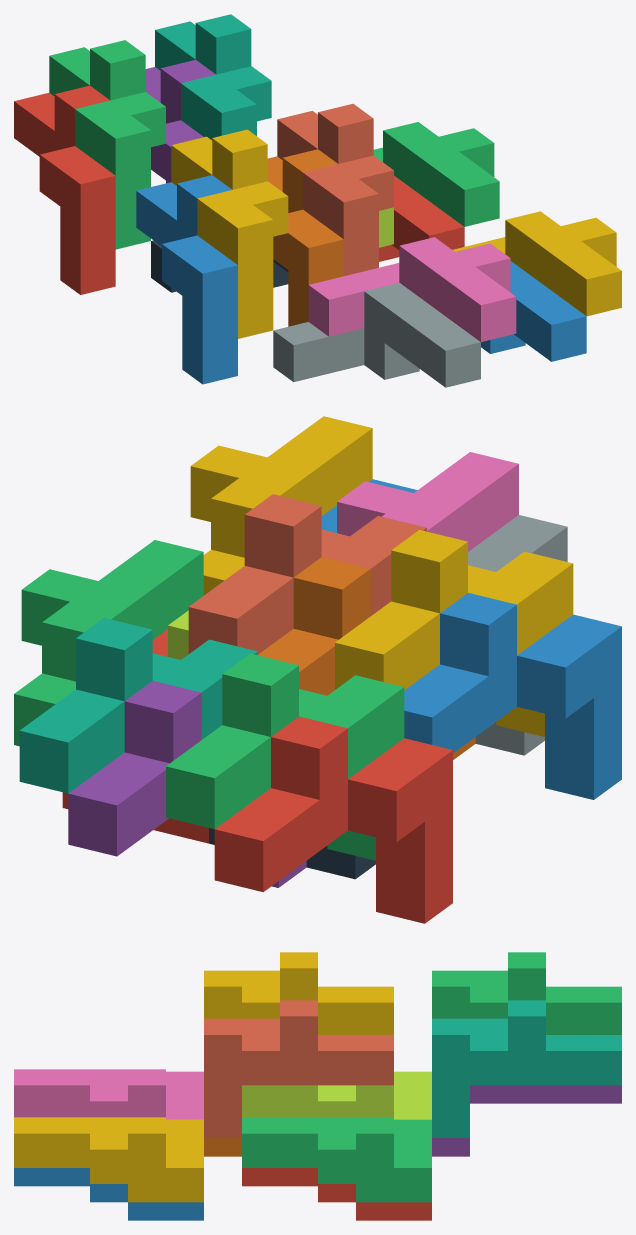
Rendered from tiling.obj.
3 views of the same model, one above another, from view 1: azimuth 30°, elevation 25°; view 2: azimuth 150°, elevation 25°; view 3: azimuth 270°, elevation 25° (orthographic). The views are drawn at different scales.
Parts seen in each view (by area): view 1: copy_1_domain_4, copy_2_domain_2, copy_2_domain_4, copy_1_domain_1, copy_1_domain_2, copy_1_domain_3, copy_1_domain_8, copy_1_domain_7, copy_2_domain_8, copy_2_domain_7, copy_1_domain_6, copy_2_domain_6 (+4 smaller); view 2: copy_1_domain_1, copy_1_domain_2, copy_1_domain_3, copy_1_domain_4, copy_1_domain_7, copy_1_domain_8, copy_2_domain_7, copy_2_domain_8, copy_1_domain_5, copy_2_domain_4, copy_1_domain_6, copy_2_domain_2 (+3 smaller); view 3: copy_1_domain_7, copy_1_domain_8, copy_2_domain_7, copy_2_domain_8, copy_1_domain_3, copy_1_domain_4, copy_2_domain_4, copy_2_domain_3, copy_1_domain_5, copy_2_domain_5, copy_2_domain_6, copy_1_domain_6.
Boxes of the visible parts, box(x1,y1,x2,y2) form: copy_1_domain_4: box(171, 129, 288, 338); copy_2_domain_2: box(273, 282, 480, 387); copy_2_domain_4: box(308, 237, 516, 341); copy_1_domain_1: box(14, 85, 115, 294); copy_1_domain_2: box(136, 175, 237, 384); copy_1_domain_3: box(49, 40, 165, 249); copy_1_domain_8: box(277, 103, 393, 275); copy_1_domain_7: box(155, 14, 271, 140); copy_2_domain_8: box(452, 211, 621, 316); copy_2_domain_7: box(373, 122, 499, 226); copy_1_domain_6: box(267, 149, 343, 326); copy_2_domain_6: box(481, 261, 586, 361); copy_1_domain_1: box(214, 716, 452, 923); copy_1_domain_2: box(404, 593, 621, 799); copy_1_domain_3: box(166, 653, 404, 860); copy_1_domain_4: box(335, 530, 573, 736); copy_1_domain_7: box(19, 618, 257, 793); copy_1_domain_8: box(188, 494, 426, 654); copy_2_domain_7: box(14, 540, 203, 746); copy_2_domain_8: box(190, 416, 372, 595); copy_1_domain_5: box(68, 681, 306, 887); copy_2_domain_4: box(337, 452, 518, 551); copy_1_domain_6: box(258, 557, 475, 759); copy_2_domain_2: box(468, 515, 567, 755); copy_1_domain_7: box(432, 1000, 621, 1137); copy_1_domain_8: box(204, 1000, 393, 1137); copy_2_domain_7: box(242, 1117, 431, 1202); copy_2_domain_8: box(14, 1117, 203, 1202); copy_1_domain_3: box(432, 952, 621, 1034); copy_1_domain_4: box(204, 952, 393, 1034); copy_2_domain_4: box(14, 1069, 203, 1119); copy_2_domain_3: box(242, 1071, 431, 1119); copy_1_domain_5: box(432, 1085, 621, 1156); copy_2_domain_5: box(242, 1168, 431, 1220); copy_2_domain_6: box(14, 1168, 203, 1220); copy_1_domain_6: box(204, 1138, 241, 1156).
Size of the model in its own units: 10 by 5 by 16.
